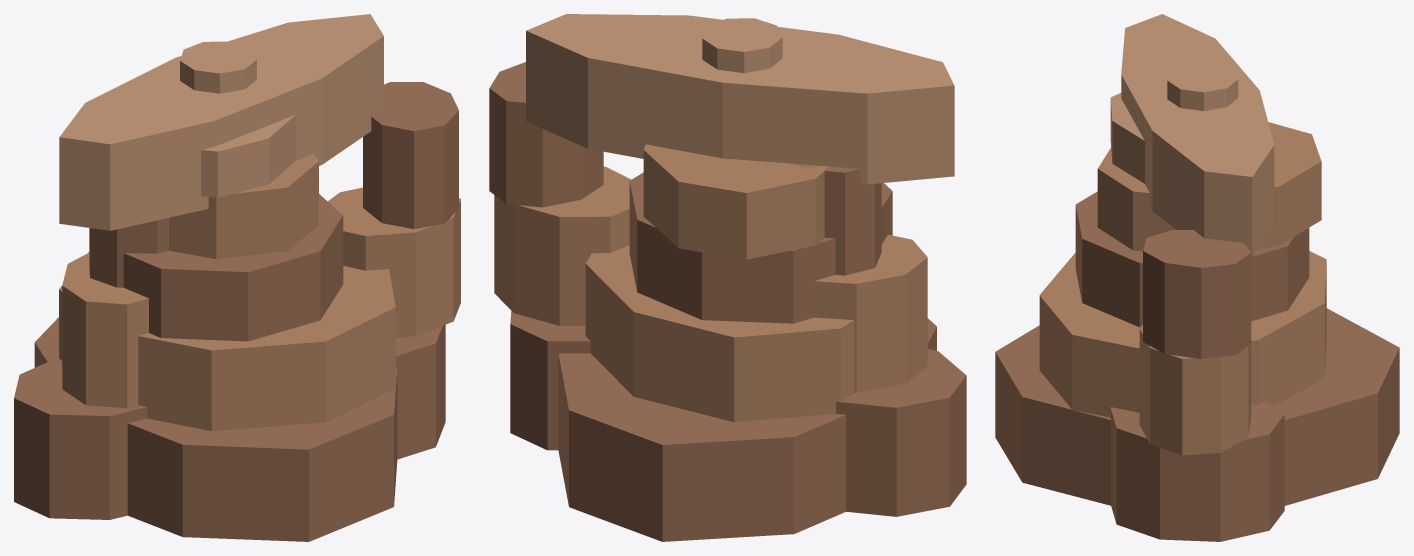
The model's file is decor_canyon.glb.
3 views of the same model, side by side, from view 1: azimuth 30°, elevation 25°; view 2: azimuth 150°, elevation 25°; view 3: azimuth 270°, elevation 25° (orthographic). The views are drawn at different scales.
Parts seen in each view (by area): view 1: Kemer, Mesa1, Mesa2; view 2: Kemer, Mesa1, Mesa2; view 3: Mesa1, Kemer, Mesa2.
Part boxes in pixels (left/top/right/bottom): Kemer: left=14, top=14, right=460, bottom=519; Mesa1: left=34, top=115, right=397, bottom=541; Mesa2: left=180, top=41, right=256, bottom=93; Kemer: left=489, top=14, right=966, bottom=516; Mesa1: left=558, top=144, right=936, bottom=541; Mesa2: left=702, top=18, right=782, bottom=73; Mesa1: left=995, top=93, right=1399, bottom=505; Kemer: left=1110, top=14, right=1284, bottom=541; Mesa2: left=1167, top=62, right=1238, bottom=110.
Bounding box in the file's own units: 7.85 × 6.9 × 6.84.
